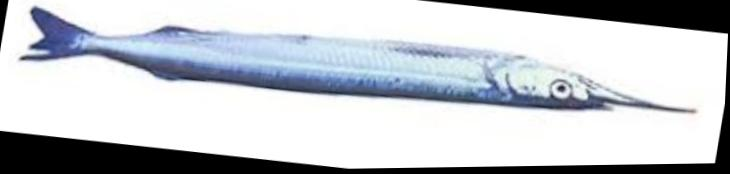fish: (17, 6, 703, 116)
